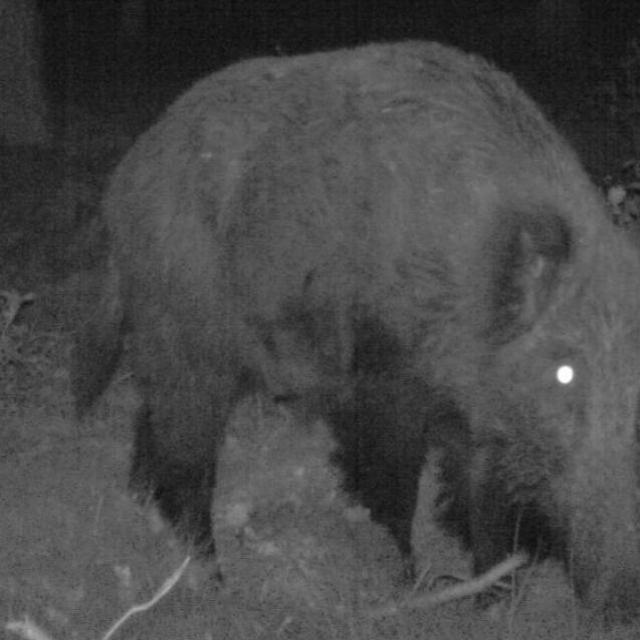pig: (69, 40, 639, 640)
